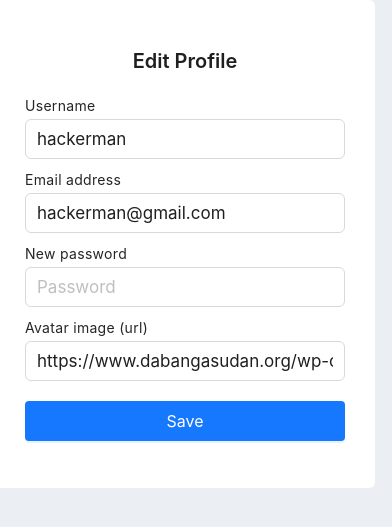
it: Component: EditProfile › Should show error popup when server respond with an error
Replace the text in the field with placeholder "Username" with "FoxTrader" at (185, 139), box [25, 119, 345, 159]
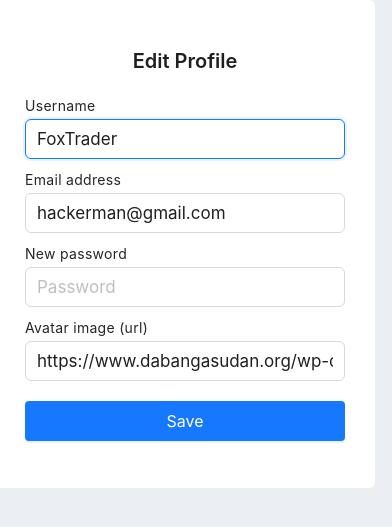
Click the button "Save" at (185, 421), box [25, 401, 345, 441]
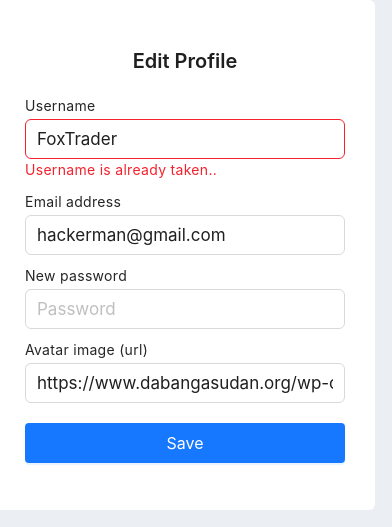
Expected: the heading "Edit Profile" is shown, [133, 49, 237, 73]
Result: the text "Username is already taken.." is shown at [25, 161, 217, 178]
